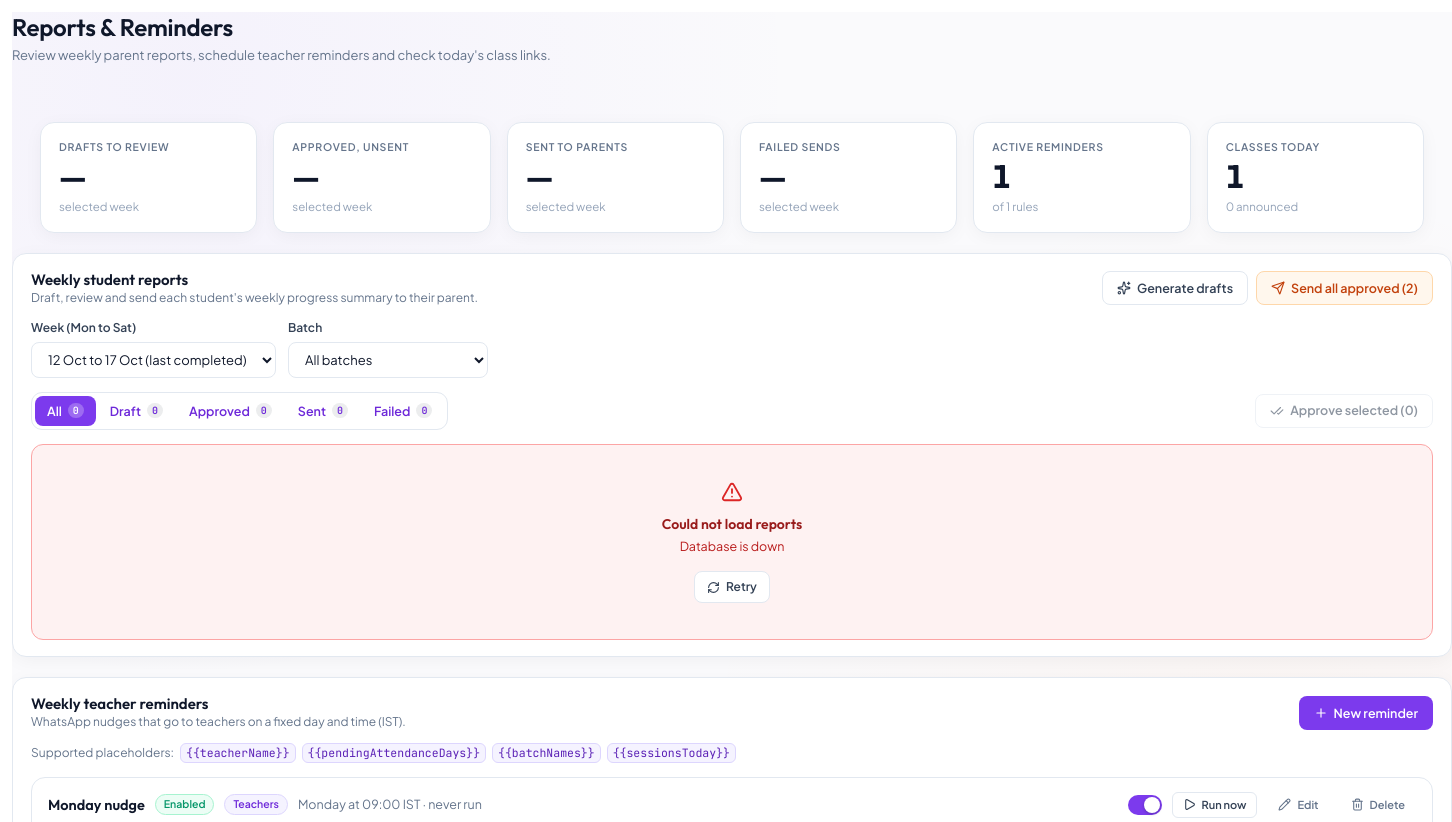
Scenario: ReportsView: weekly reports › shows the server error and retries
Check: the text "Database is down" is shown, box [680,536,784,555]
Click the button "Retry" at (732, 587), box [694,571,770,603]
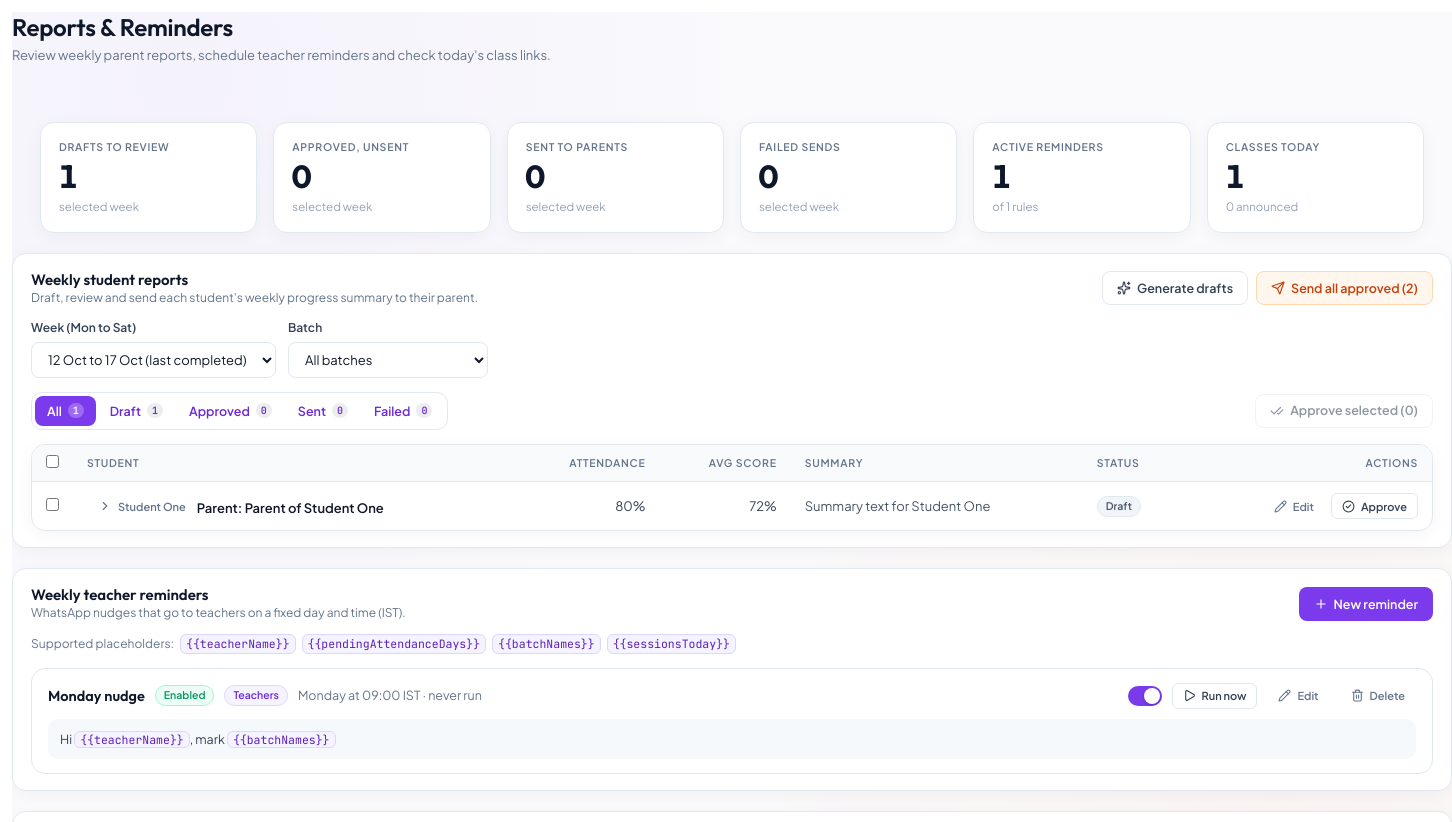
Check: the button "Student One" is shown, box [87,493,197,519]
